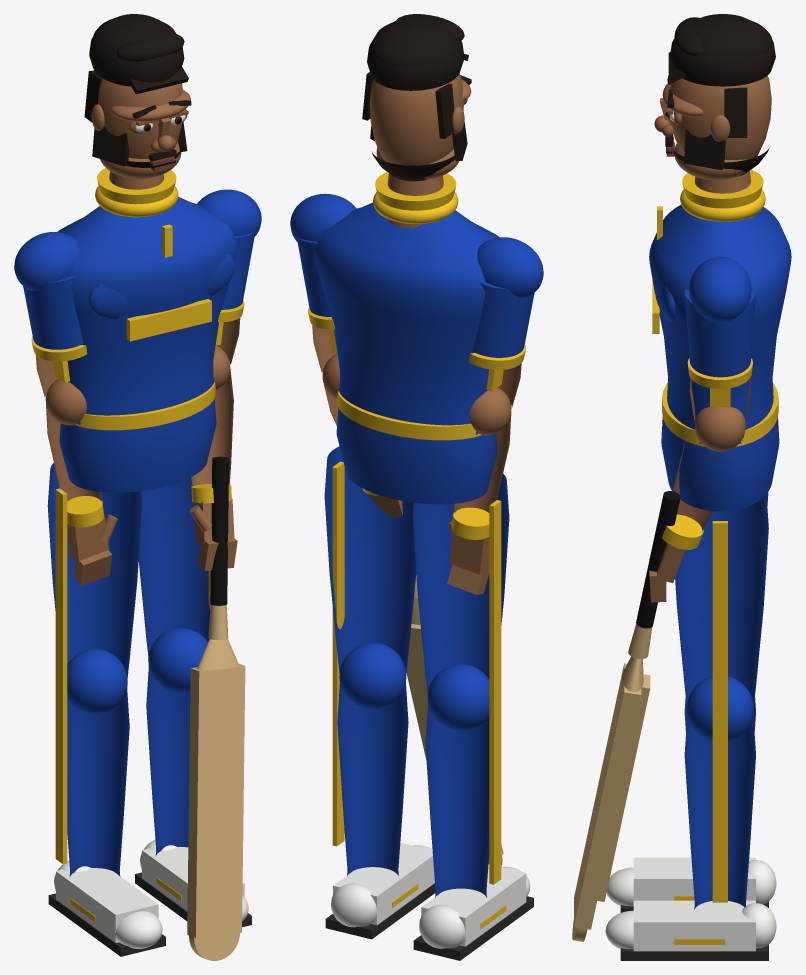
The model's file is cricket_player.glb.
The picture shows the model from 3 angles, left to right: view 1: azimuth 30°, elevation 25°; view 2: azimuth 150°, elevation 25°; view 3: azimuth 270°, elevation 25°; orthographic projection. The views are drawn at different scales.
Visible parts, largest first — view 1: shirt, bat_blade, shin_L, hips, thigh_R, thigh_L, shin_R, leg_stripe_L, hair_cap, shoe_upper_L, knee_L, sleeve_L (+37 smaller); view 2: shirt, thigh_R, shin_R, shin_L, hips, thigh_L, face, hair_cap, leg_stripe_L, leg_stripe_R, knee_R, knee_L (+27 smaller); view 3: shirt, thigh_R, shin_R, hips, leg_stripe_R, shoe_upper_R, bat_blade, hair_cap, face, sleeve_R, shoulder_R, shoe_upper_L (+25 smaller).
Boxes of the visible parts, bbox=[...] form: shirt: bbox=[57, 197, 239, 424]; bat_blade: bbox=[187, 663, 245, 937]; shin_L: bbox=[67, 688, 129, 876]; hips: bbox=[59, 398, 216, 492]; thigh_R: bbox=[138, 450, 225, 658]; thigh_L: bbox=[47, 463, 141, 679]; shin_R: bbox=[146, 667, 190, 855]; leg_stripe_L: bbox=[55, 488, 67, 864]; hair_cap: bbox=[89, 14, 184, 86]; shoe_upper_L: bbox=[56, 868, 158, 942]; knee_L: bbox=[67, 649, 127, 714]; sleeve_L: bbox=[23, 276, 83, 349]; shirt: bbox=[313, 202, 499, 434]; thigh_R: bbox=[324, 446, 416, 672]; shin_R: bbox=[337, 683, 408, 876]; shin_L: bbox=[425, 704, 489, 898]; hips: bbox=[336, 407, 497, 504]; thigh_L: bbox=[412, 473, 509, 694]; face: bbox=[369, 73, 463, 165]; hair_cap: bbox=[367, 16, 464, 90]; leg_stripe_L: bbox=[489, 500, 501, 884]; leg_stripe_R: bbox=[332, 461, 344, 846]; knee_R: bbox=[339, 642, 406, 709]; knee_L: bbox=[427, 664, 489, 731]; shirt: bbox=[649, 205, 791, 443]; thigh_R: bbox=[675, 488, 768, 705]; shin_R: bbox=[684, 716, 755, 909]; hips: bbox=[661, 417, 779, 511]; leg_stripe_R: bbox=[712, 521, 727, 902]; shoe_upper_R: bbox=[633, 900, 755, 951]; bat_blade: bbox=[574, 663, 641, 929]; hair_cap: bbox=[670, 14, 775, 86]; face: bbox=[670, 76, 771, 159]; sleeve_R: bbox=[684, 289, 755, 377]; shoulder_R: bbox=[689, 256, 751, 322]; shoe_upper_L: bbox=[633, 857, 755, 900].
Bounding box in the file's own units: 0.559 × 1.97 × 0.4292.
